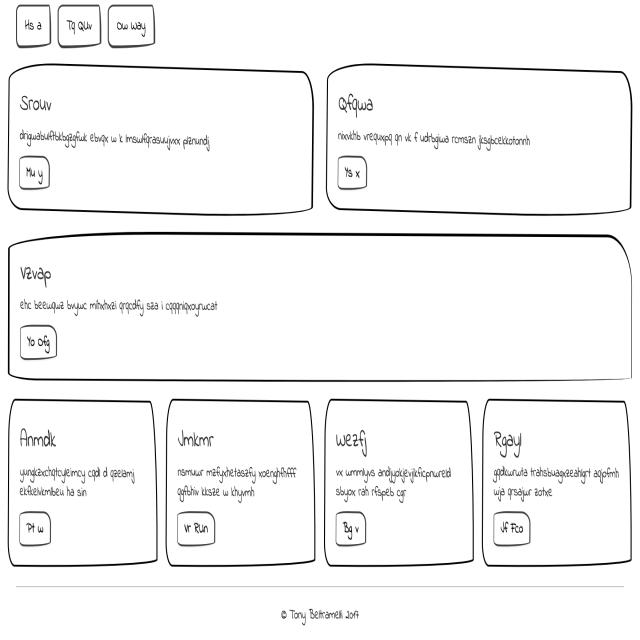Card: (5, 64, 319, 220)
Navigation Bar: (12, 2, 161, 50)
